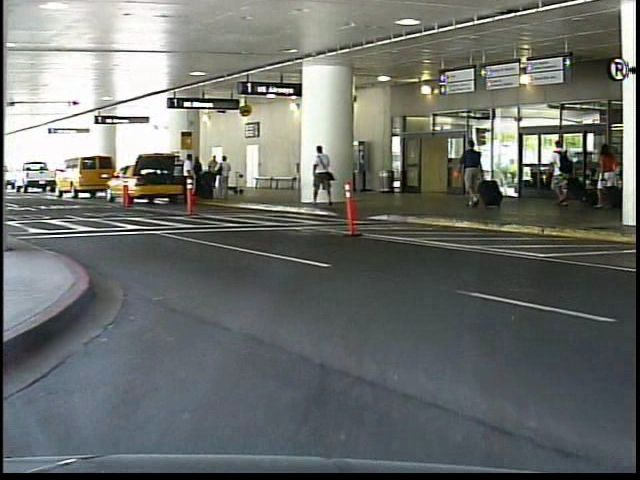person: (545, 138, 582, 218), (596, 133, 625, 218), (462, 138, 492, 213), (310, 142, 342, 211)
